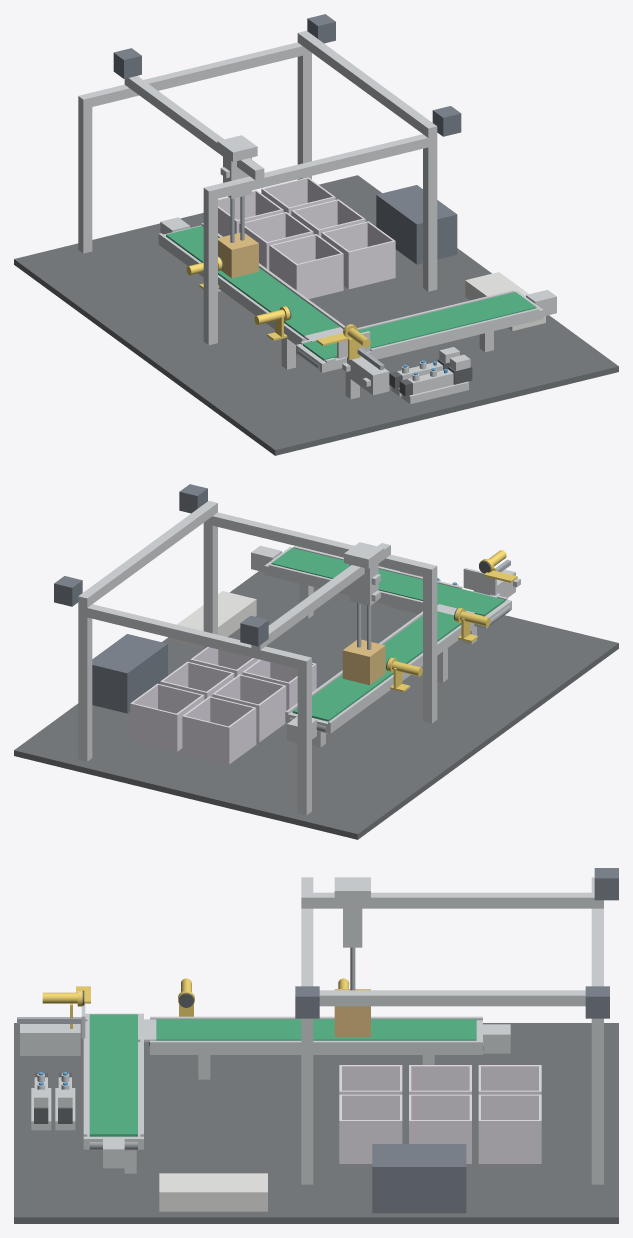
Rendered from production_twin_v5_extended.glb.
3 views of the same model, one above another, from view 1: azimuth 30°, elevation 25°; view 2: azimuth 150°, elevation 25°; view 3: azimuth 270°, elevation 25° (orthographic). The views are drawn at different scales.
Parts seen in each view (by area): view 1: production_twin_v5_extended (×10); view 2: production_twin_v5_extended (×9); view 3: production_twin_v5_extended (×10).
Boxes of the visible parts, box(x1,y1,x2,y2) form: production_twin_v5_extended (×10): box(14, 14, 618, 455); production_twin_v5_extended (×9): box(14, 484, 618, 839); production_twin_v5_extended (×10): box(14, 868, 618, 1223).
Size of the model in its own units: 0.76 by 0.397 by 1.
